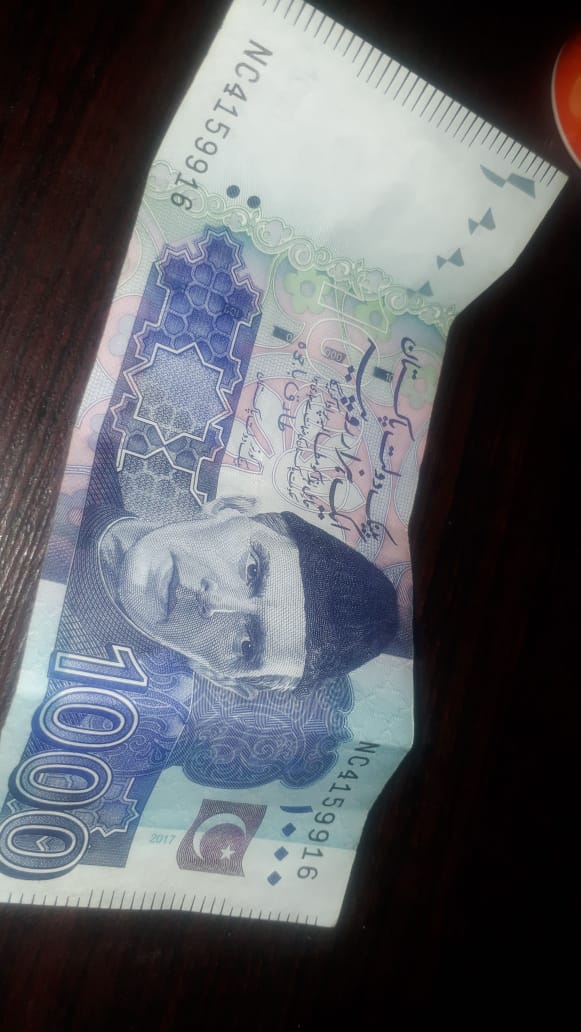1000 rupee: (0, 24, 576, 968)
